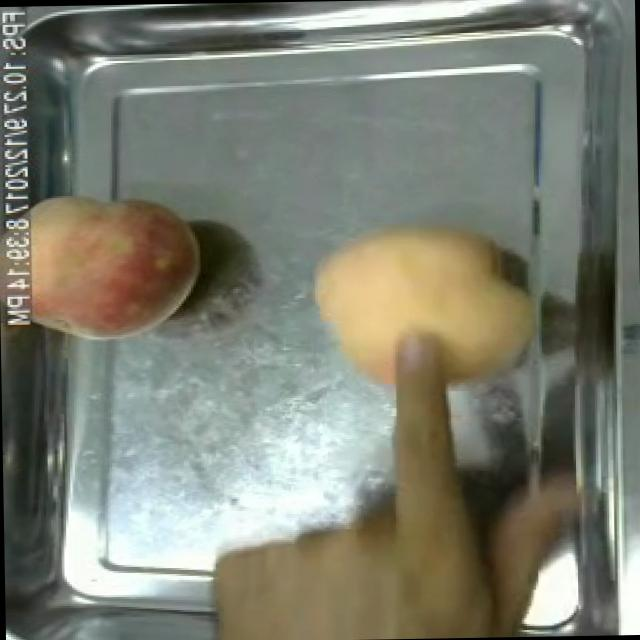Fruit: (189, 322, 529, 640), (302, 208, 544, 410), (20, 184, 209, 349)
